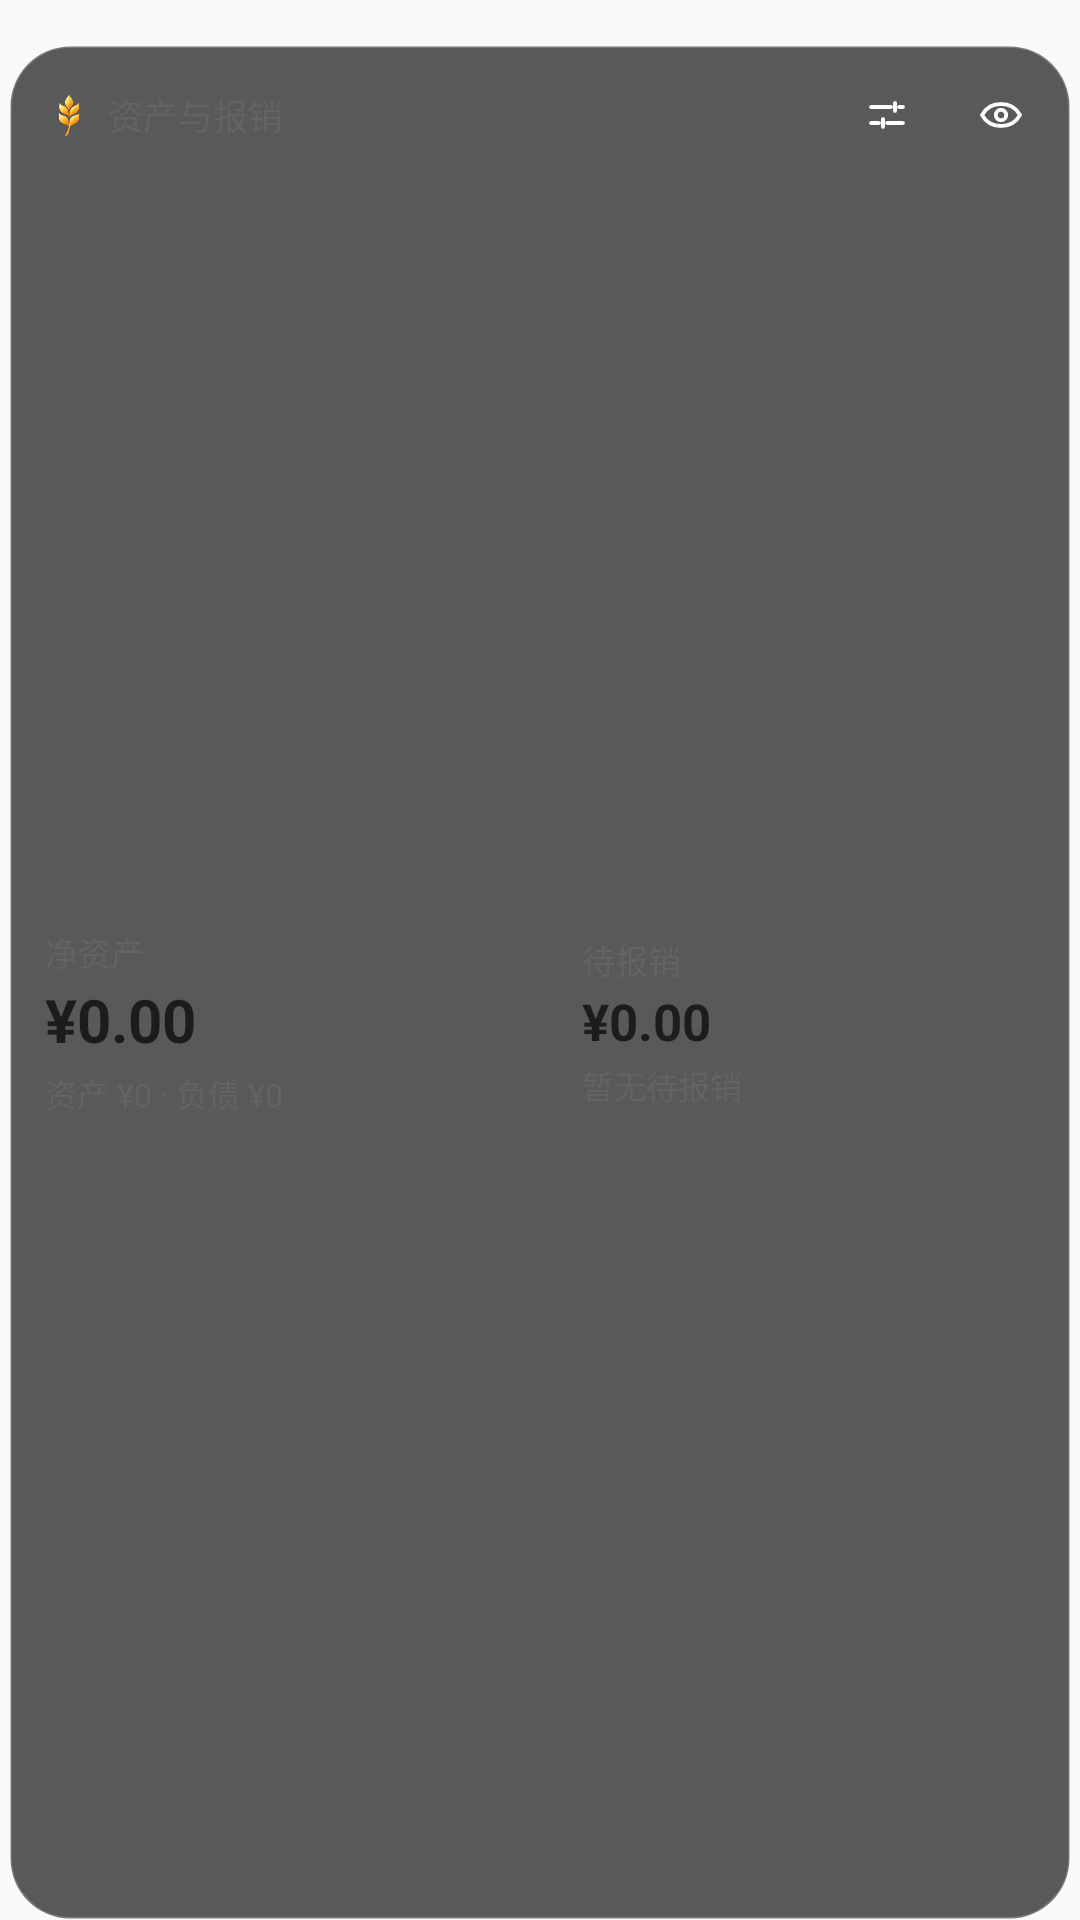

Where to tap for icons on this 1080×1920 app screen, as (x,y):
brand: (69,115)
